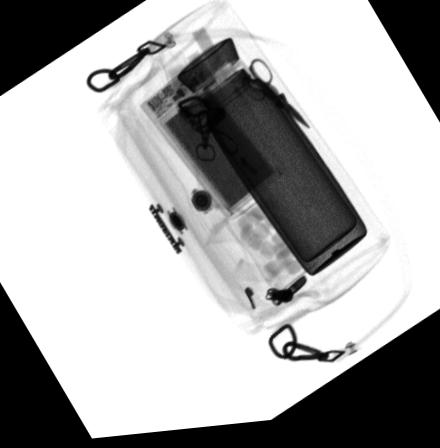Powerbank: (139, 62, 286, 221)
Scissors: (240, 59, 313, 133)
